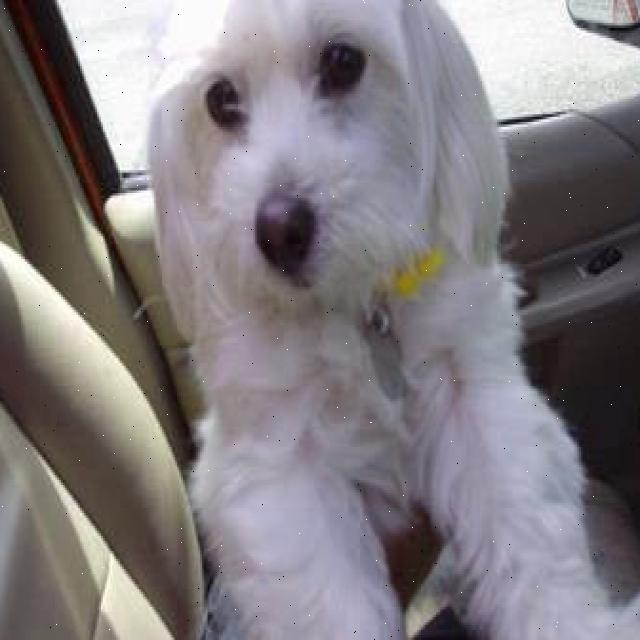Dog: (130, 0, 539, 361)
